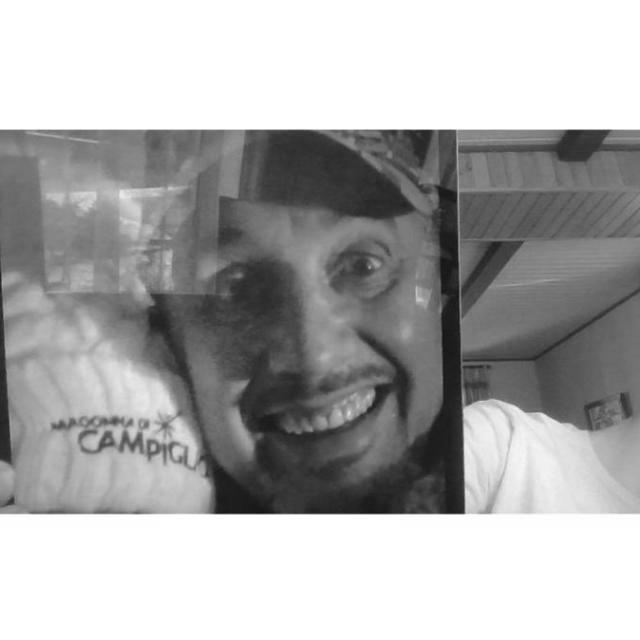fake: (0, 130, 467, 514)
